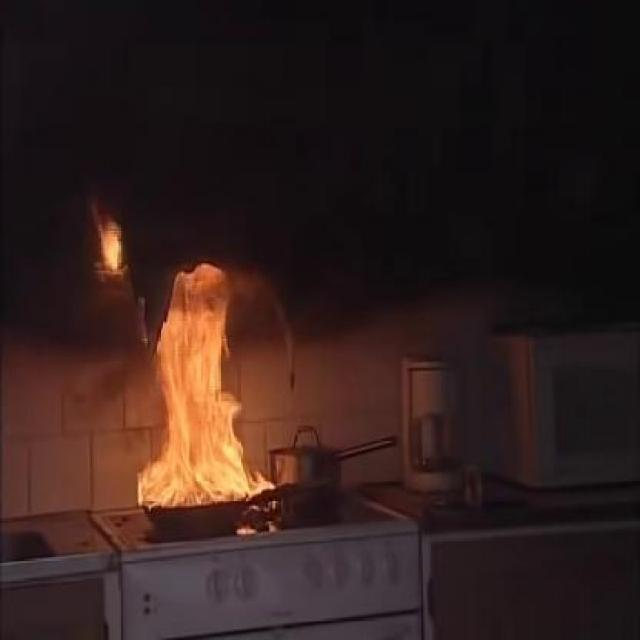fire: (139, 288, 267, 494)
